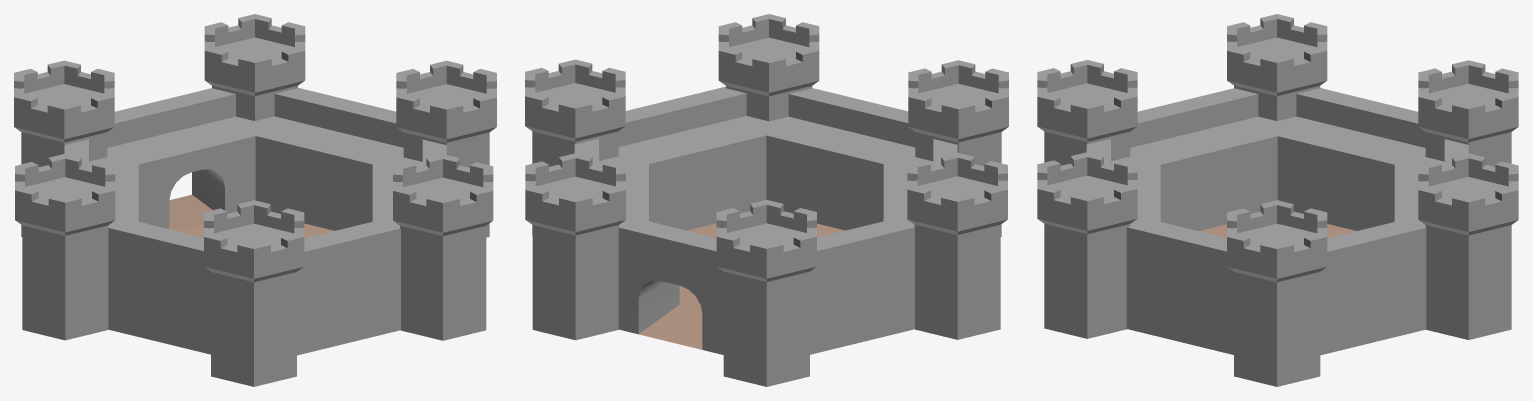
Rendered from Castle02.fbx.
3 views of the same model, side by side, from view 1: azimuth 30°, elevation 25°; view 2: azimuth 150°, elevation 25°; view 3: azimuth 270°, elevation 25° (orthographic).
Visible parts, largest first — view 1: Castle4; view 2: Castle4; view 3: Castle4.
Boxes of the visible parts, <box> form: Castle4: <box>14,14,496,386</box>; Castle4: <box>525,14,1008,386</box>; Castle4: <box>1037,14,1518,386</box>.
Bounding box in the file's own units: 1.12 × 0.3136 × 0.9687.
